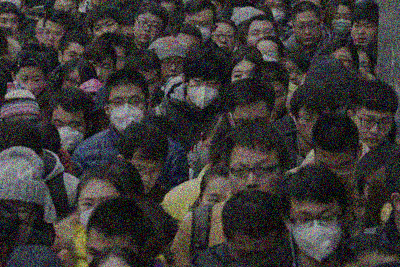with_mask: (289, 205, 341, 264), (107, 94, 147, 135), (78, 194, 118, 232), (50, 115, 86, 152), (186, 77, 222, 111), (185, 18, 214, 44), (15, 72, 44, 98), (330, 12, 352, 37), (264, 1, 287, 24)
without_mask: (228, 155, 284, 198), (357, 111, 394, 148), (127, 161, 164, 195), (315, 157, 358, 186), (251, 85, 288, 118), (296, 111, 330, 145), (132, 15, 163, 46), (294, 17, 322, 46), (351, 20, 378, 46), (159, 57, 184, 84), (211, 29, 237, 53), (89, 60, 114, 84), (41, 27, 65, 52), (247, 27, 276, 47), (92, 19, 119, 40), (285, 66, 303, 86)
